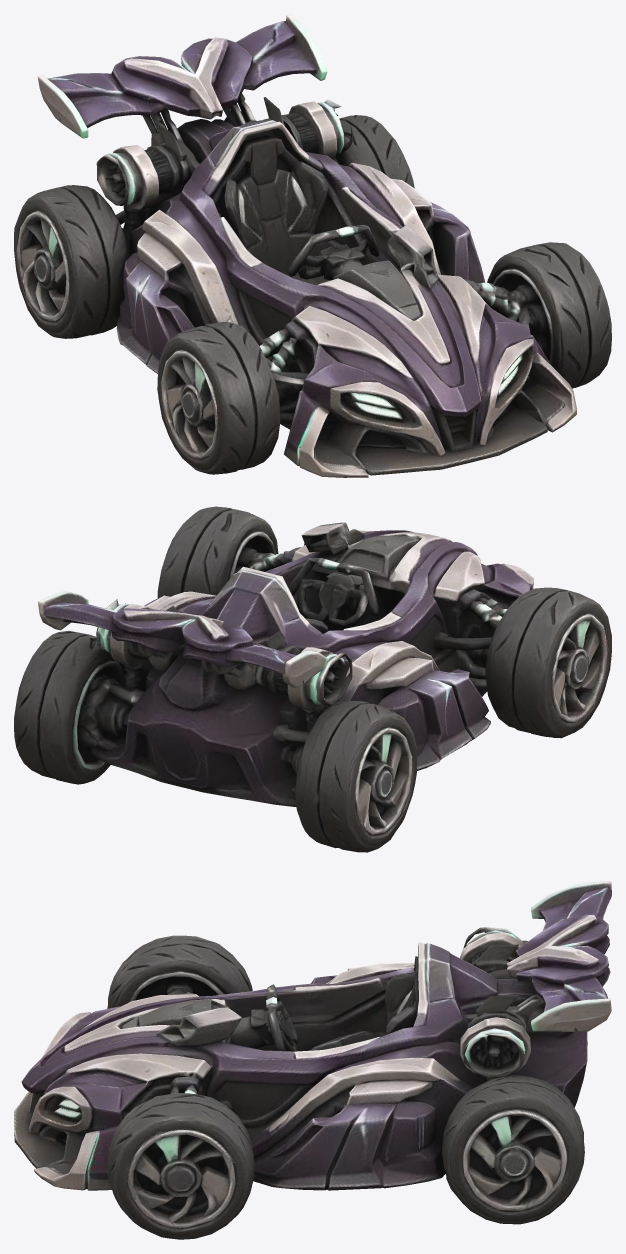
Rendered from 05-violet-nautilus.glb.
3 renders of one model, top to bottom at view 1: azimuth 30°, elevation 25°; view 2: azimuth 150°, elevation 25°; view 3: azimuth 270°, elevation 25°, orthographic. The views are drawn at different scales.
Visible parts, largest first — view 1: 05-violet-nautilus; view 2: 05-violet-nautilus; view 3: 05-violet-nautilus.
Boxes of the visible parts, x1,y1,x2,y2 form: 05-violet-nautilus: (14, 14, 611, 477); 05-violet-nautilus: (14, 506, 611, 852); 05-violet-nautilus: (14, 881, 611, 1239).
Size of the model in its own units: 1.41 by 0.7509 by 1.9.
Materials: 1 (1 with a texture image).
